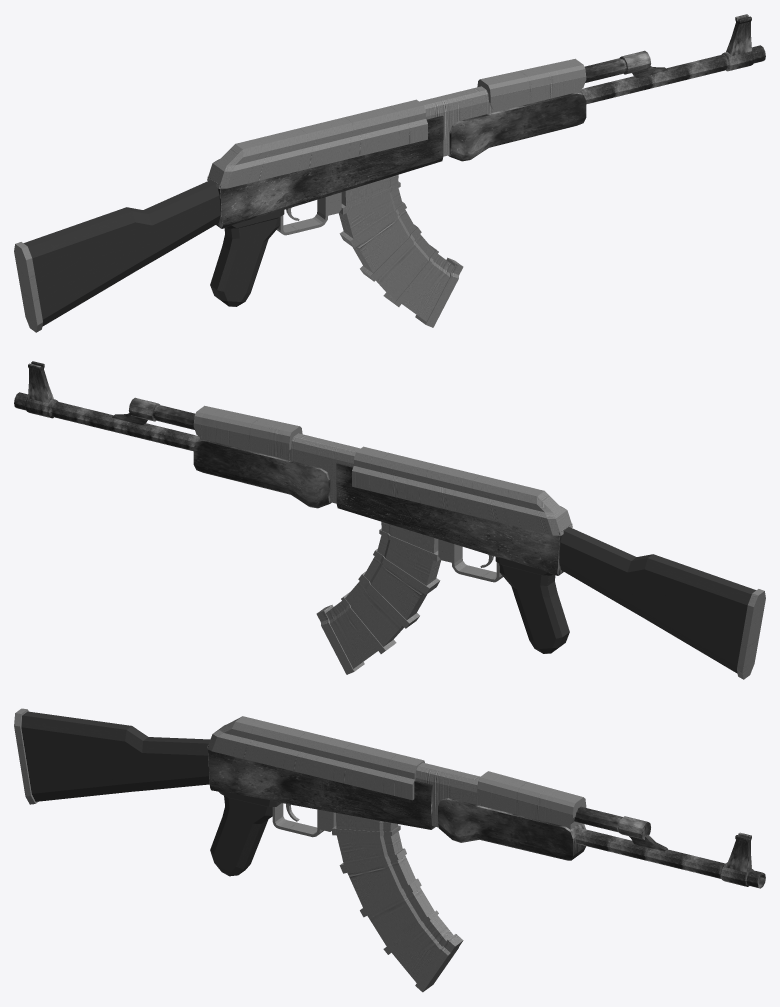
The model's file is AssaultRifle_2.fbx.
The picture shows the model from 3 angles, top to bottom: view 1: azimuth 30°, elevation 25°; view 2: azimuth 150°, elevation 25°; view 3: azimuth 330°, elevation 25°; orthographic projection.
Visible parts, largest first — view 1: AssaultRifle_2; view 2: AssaultRifle_2; view 3: AssaultRifle_2.
Boxes of the visible parts, <box> form: AssaultRifle_2: <box>14,14,765,332</box>; AssaultRifle_2: <box>14,361,765,679</box>; AssaultRifle_2: <box>14,708,765,992</box>.
Bounding box in the file's own units: 542 × 160 × 19.6.
